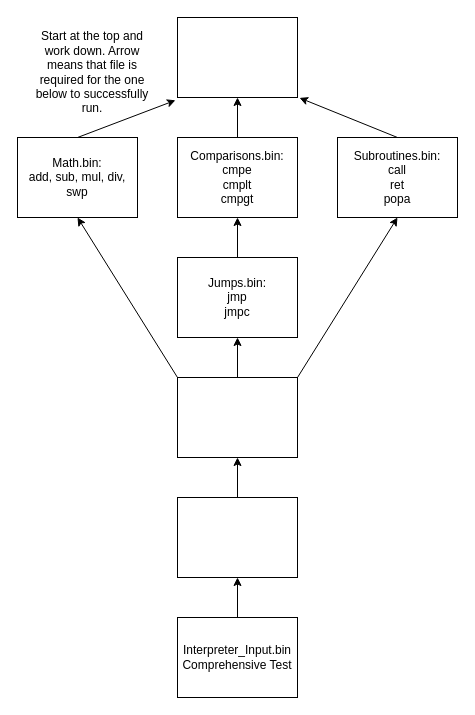
Image size: 475x715. Some labels were removed from this diagram. Here are the shapes that lost their labels. From the top down, the centre of each, then its label:
pixel 237 57: Basics.bin: push[type] print[type] halt
pixel 237 417: Push_Pop.bin: pushv[type] popm popv
pixel 237 537: Peek_Poke.bin: peek[type] poke[type]
